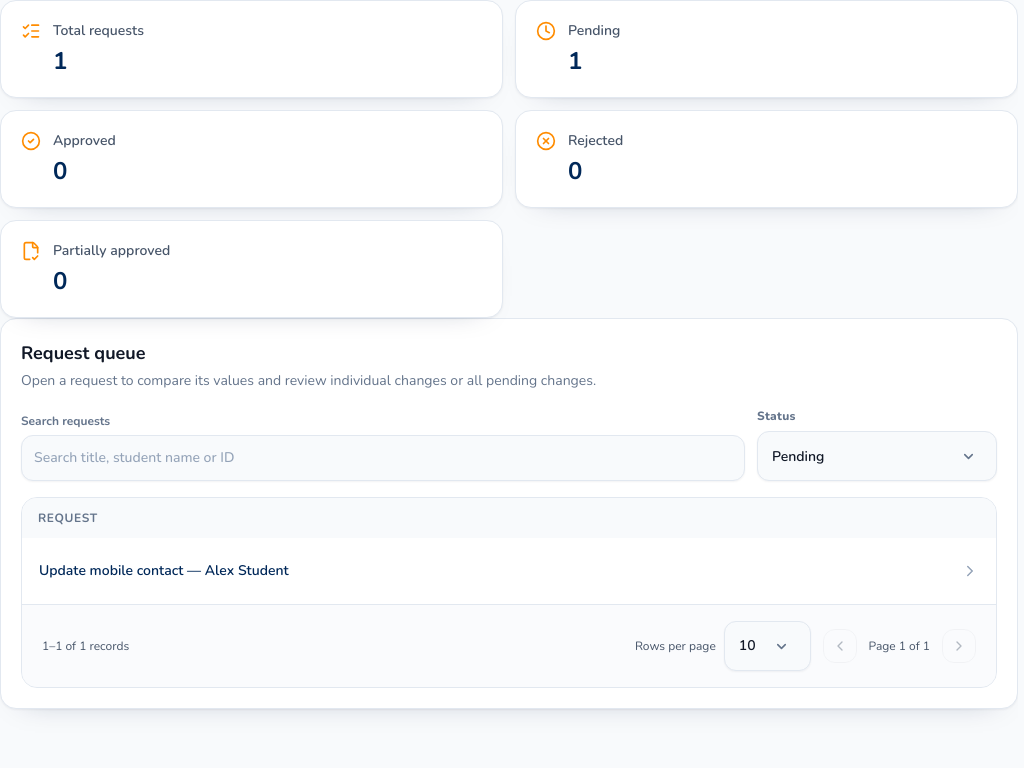
Scenario: shows the requesting student profile rather than the reviewing officer
The width and height of the screenshot is (1024, 768).
Click the button "Update mobile contact — Alex Student".
click(164, 570)  # box [23,539,995,603]
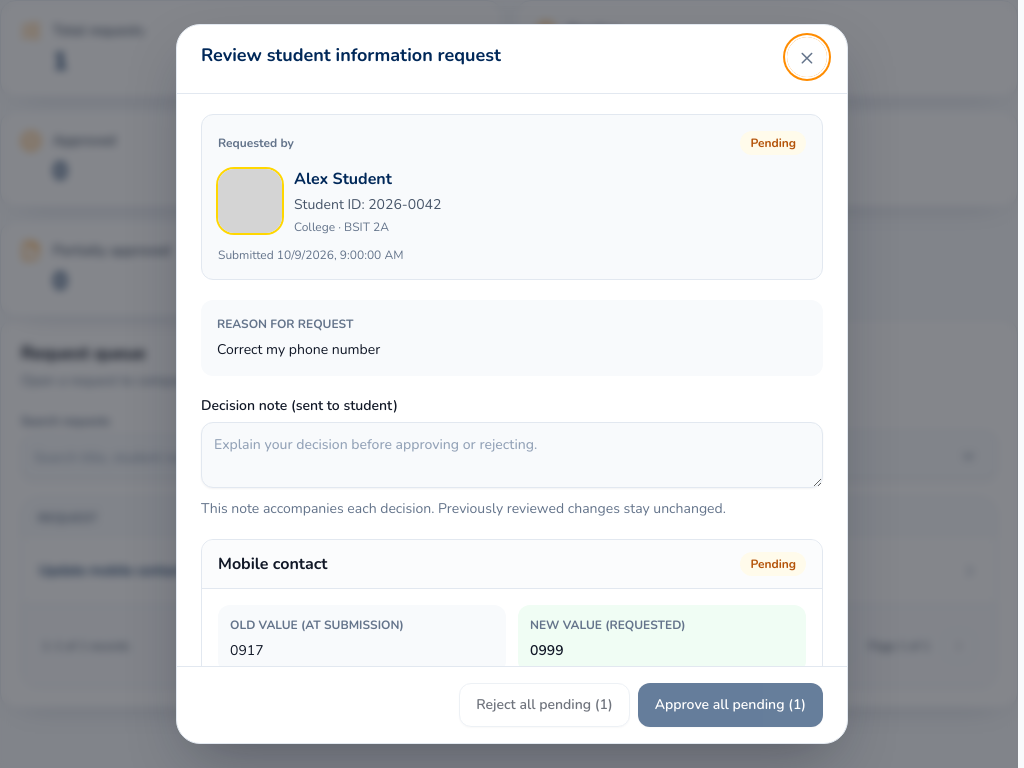
Expected: the heading "Requested by" is shown, [218,135,294,151]
Expected: the text "Alex Student" is shown, [294,168,392,190]
Expected: the text "Student ID: 2026-0042" is shown, [294,195,441,215]
